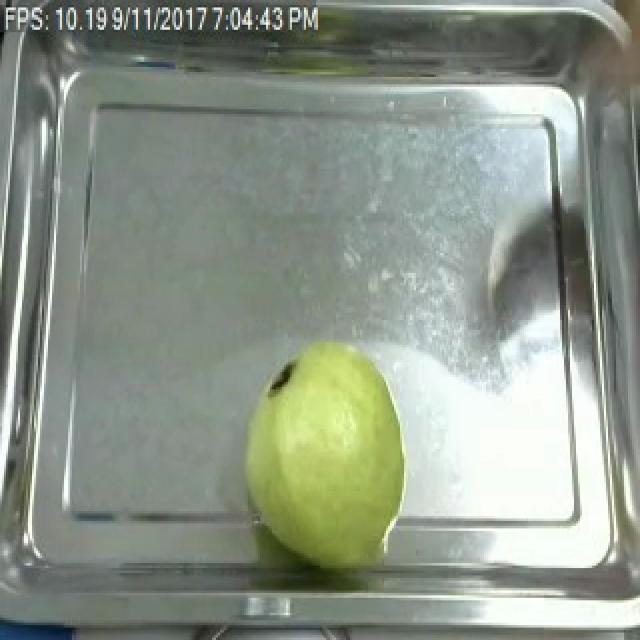Fruit: (232, 330, 416, 568)
